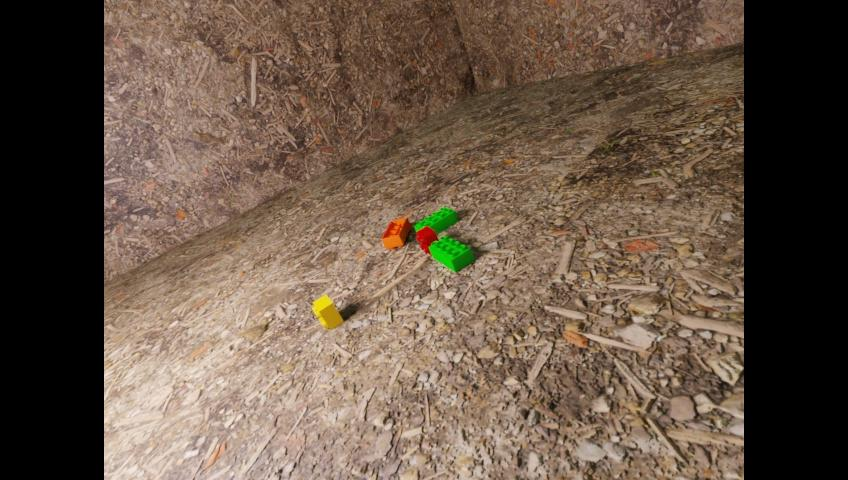2x2_red: (415, 225, 438, 255)
2x2_yellow: (312, 294, 342, 329)
4x2_green: (428, 235, 474, 272), (414, 206, 457, 234)
4x2_orange: (381, 216, 410, 249)
